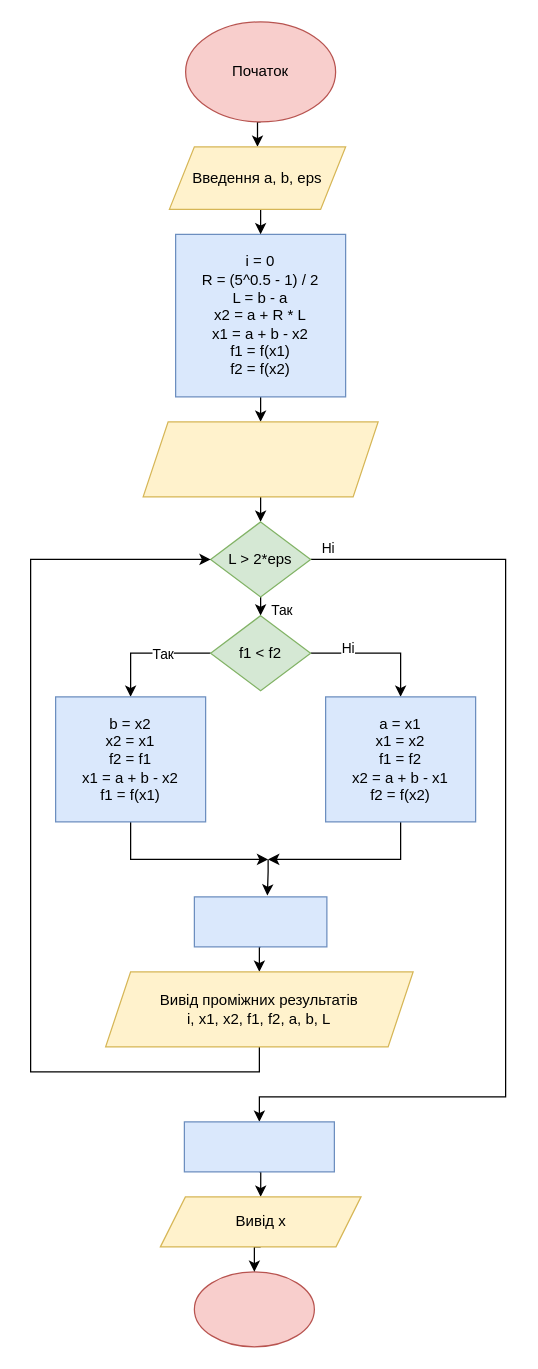
Image size: 538x1369. Some labels were removed from this diagram. The shapes that lost their labels are listed below. From the top down, each one's centre as x and y in pixels, then its label:
the point at 260,459: Вивід початкових даних i, x1, x2, f1, f2, a, b, L
the point at 260,921: L = b - a i = i +1
the point at 258,1146: x = (a + b) / 2
the point at 253,1309: Кінець
